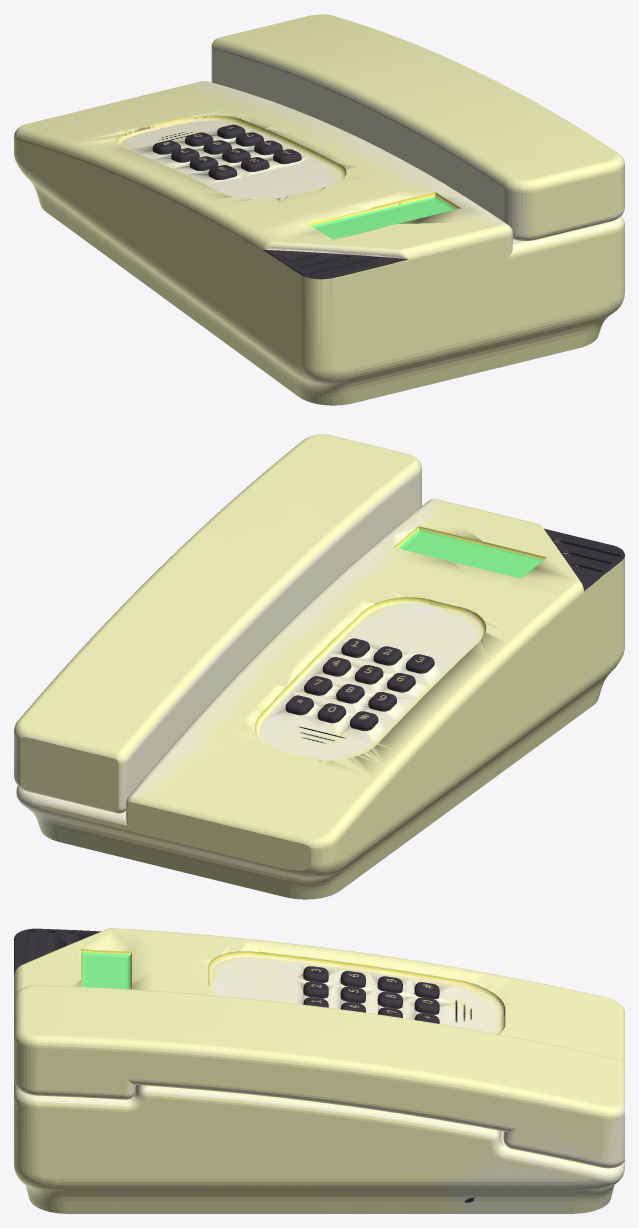
The model's file is LandlineNoCable.fbx.
The picture shows the model from 3 angles, top to bottom: view 1: azimuth 30°, elevation 25°; view 2: azimuth 150°, elevation 25°; view 3: azimuth 270°, elevation 25°; orthographic projection.
Parts seen in each view (by area): view 1: Landline_Low; view 2: Landline_Low; view 3: Landline_Low.
Part boxes in pixels (x1,y1,x2,y2): Landline_Low: [14, 14, 624, 405]; Landline_Low: [14, 434, 624, 899]; Landline_Low: [14, 928, 624, 1213].
Size of the model in its own units: 15 by 8.49 by 24.95.
